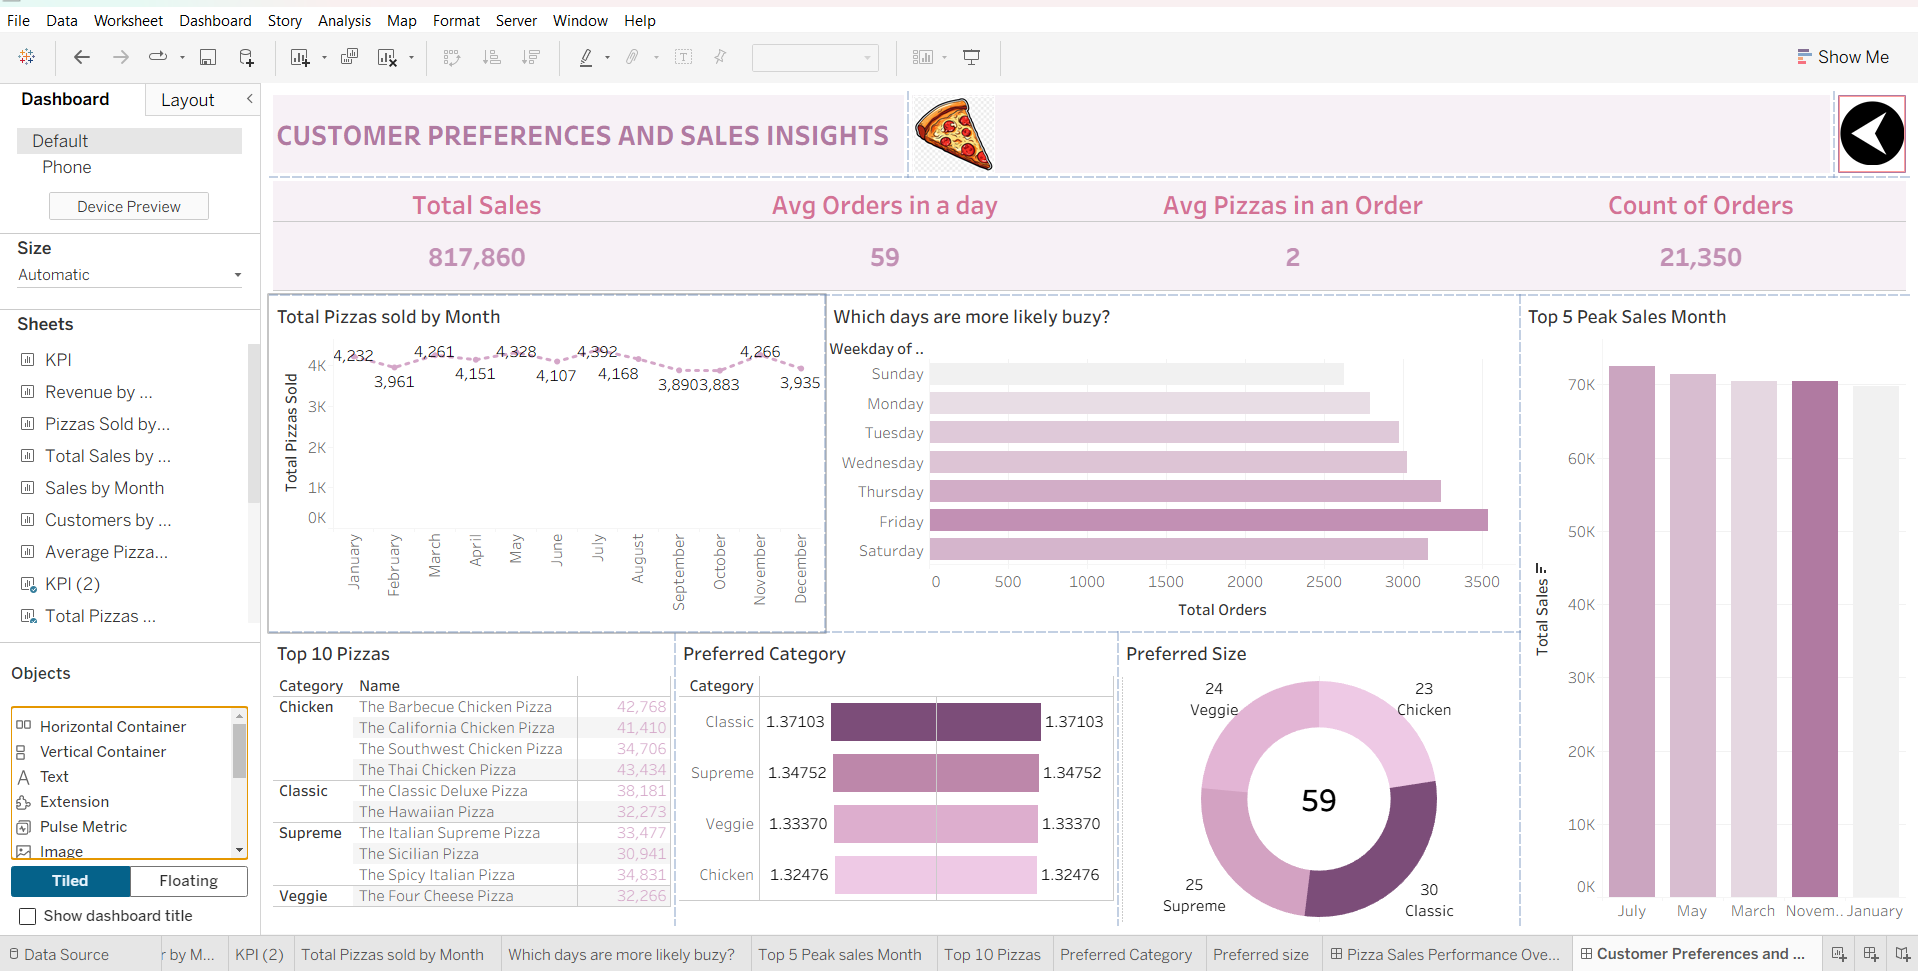

The dashboard page shown, as its layout file describes it:
{"tool":"tableau","page":{"name":"Customer Preferences and Sales Insights","canvas":[1000,1000],"units":"permille","ordinal":0},"visuals":[{"type":"text","box":[4.8,9.4,385.6,101.1]},{"type":"image","param":"Image/pizza.jpg","box":[390.4,9.4,558.9,101.1]},{"type":"dashboard-object","box":[949.3,9.4,45.9,101.1]},{"type":"worksheet","title":"KPI (2)","mark":"Automatic","box":[4.8,110.5,990.3,138.6]},{"type":"worksheet","title":"Total Pizzas sold by Month","mark":"Line","rows":["Calculation_0497037380210692"],"cols":["date"],"box":[4.8,249.1,335.5,396]},{"type":"worksheet","title":"Which days are more likely buzy?","mark":"Bar","rows":["date"],"cols":["Calculation_0497037380317189"],"box":[340.4,249.1,419.4,396]},{"type":"worksheet","title":"Top 5 Peak sales Month","mark":"Bar","rows":["Calculation_0497037379809283"],"cols":["date"],"box":[759.8,249.1,235.4,741.5]},{"type":"worksheet","title":"Top 10 Pizzas","mark":"Text","rows":["category","name"],"box":[4.8,645.1,245,345.5]},{"type":"worksheet","title":"Preferred Category","mark":"Automatic","rows":["category"],"cols":["Calculation_1065485972914177"],"box":[249.8,645.1,267.6,345.5]},{"type":"worksheet","title":"Preferred size","mark":"Pie","cols":["Calculation_0497037388877837","Calculation_0497037388877837"],"box":[517.5,645.1,242.3,345.5]}]}

Visuals, with their boxes on the dashboard's canvas, which has no fixed pixel size, in thousandths of its width and height (x1, y1, x2, y2). These are canvas units, not pixel positions in the 1918x971 screenshot, which may show the page scaled, cropped or inside an application window:
text: bbox=[5, 9, 390, 110]
image: bbox=[390, 9, 949, 110]
dashboard-object: bbox=[949, 9, 995, 110]
"KPI (2)" worksheet: bbox=[5, 110, 995, 249]
"Total Pizzas sold by Month" worksheet (Line marks): bbox=[5, 249, 340, 645]
"Which days are more likely buzy?" worksheet (Bar marks): bbox=[340, 249, 760, 645]
"Top 5 Peak sales Month" worksheet (Bar marks): bbox=[760, 249, 995, 991]
"Top 10 Pizzas" worksheet (Text marks): bbox=[5, 645, 250, 991]
"Preferred Category" worksheet: bbox=[250, 645, 517, 991]
"Preferred size" worksheet (Pie marks): bbox=[518, 645, 760, 991]
